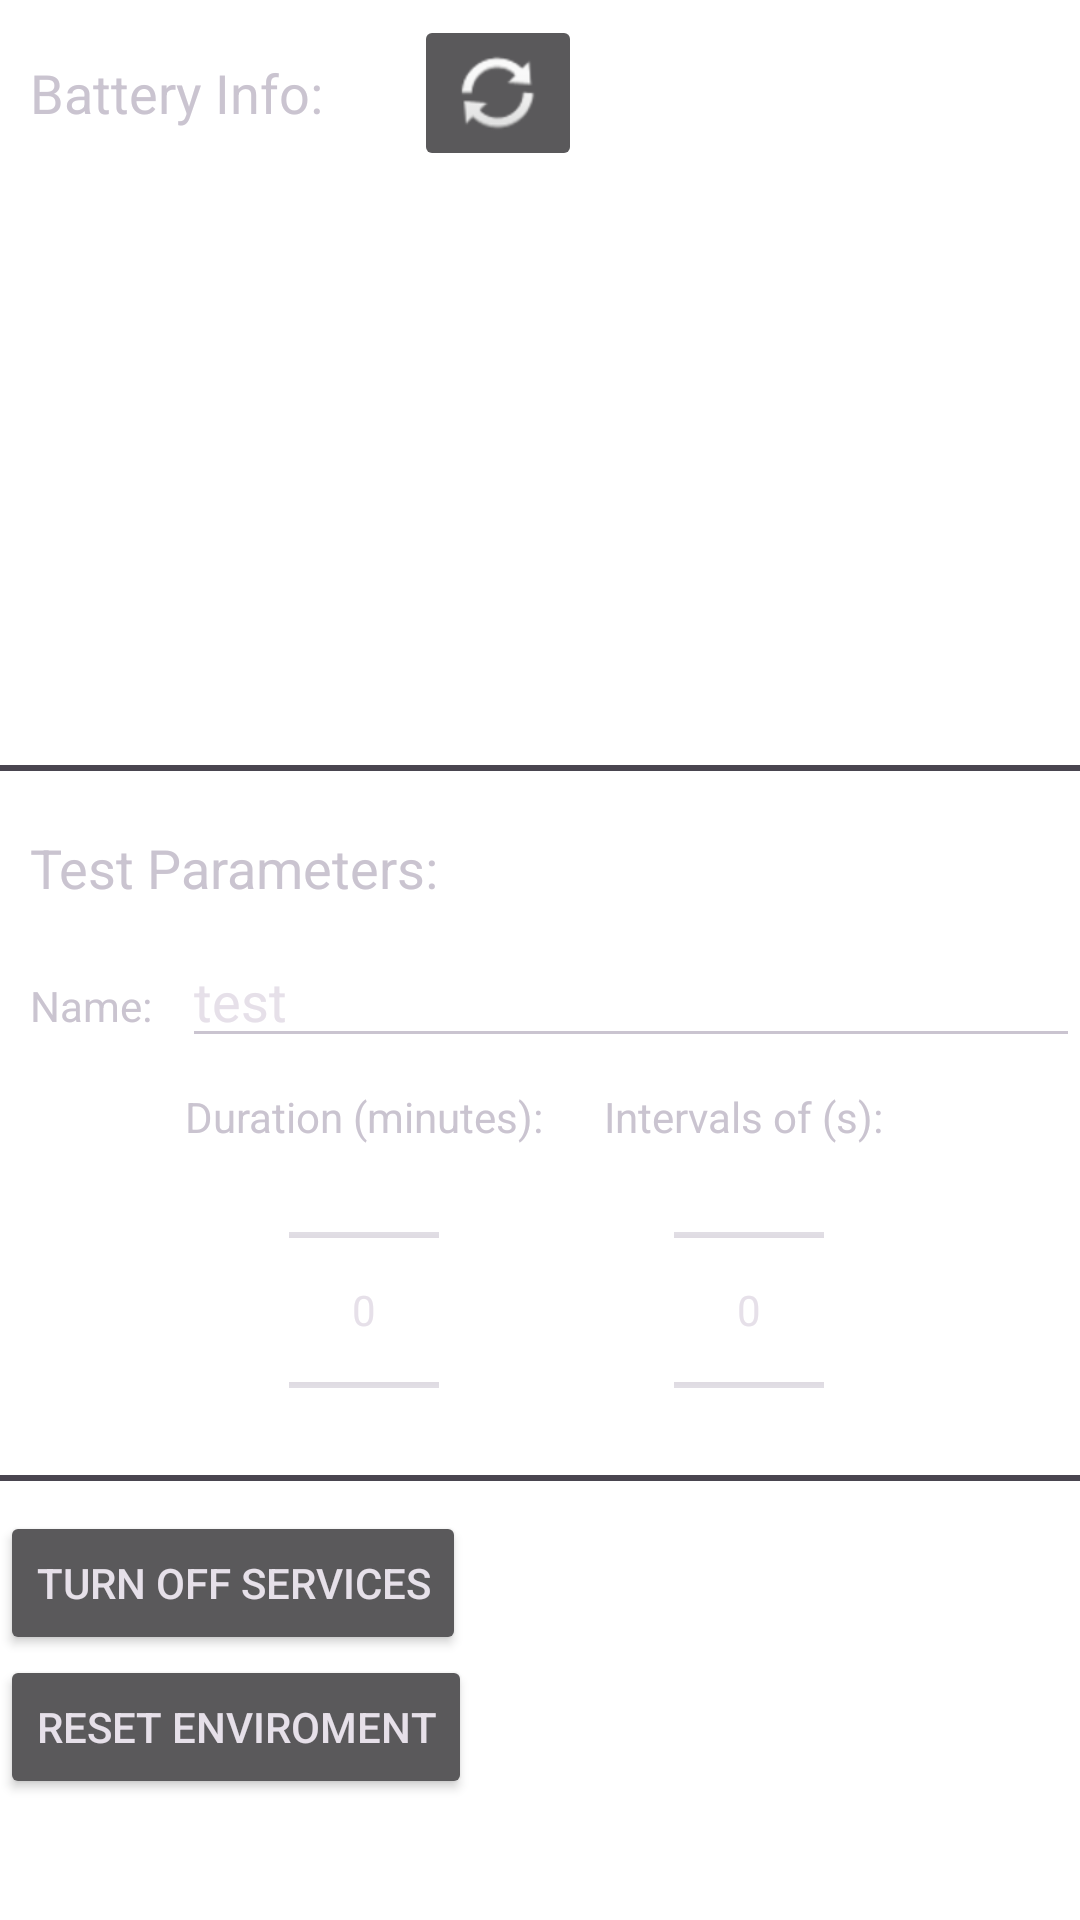

Named icons in this screenshot (1080*1920) and their bounding boxes, box(x1, y1, x2, y2):
popup sync: box(426, 33, 570, 153)
